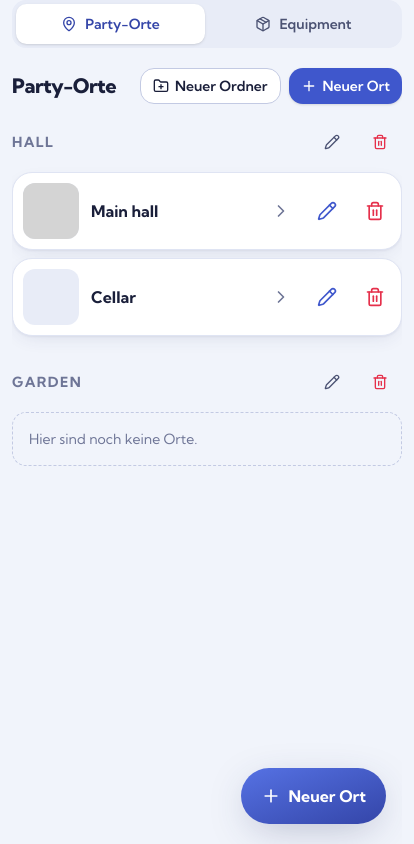
Test: Dashboard › points the floating button at the matching 'new' page
Expected: the text "Main hall" is shown, [91,201,158,221]
Expected: the 2nd link with class "fixed" reads "Neuer Ort", [240,768,386,824]
Click the tab "Equipment".
click(304, 24)  # box [209,4,398,44]
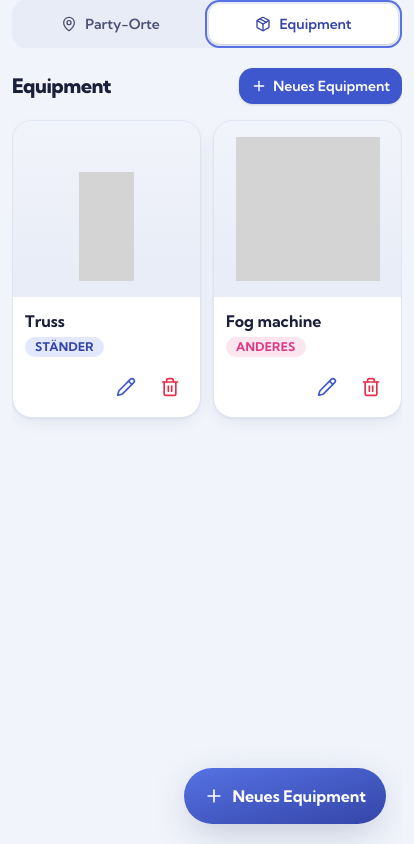
Now the 2nd link with class "fixed" reads "Neues Equipment", box [184,768,386,824]
